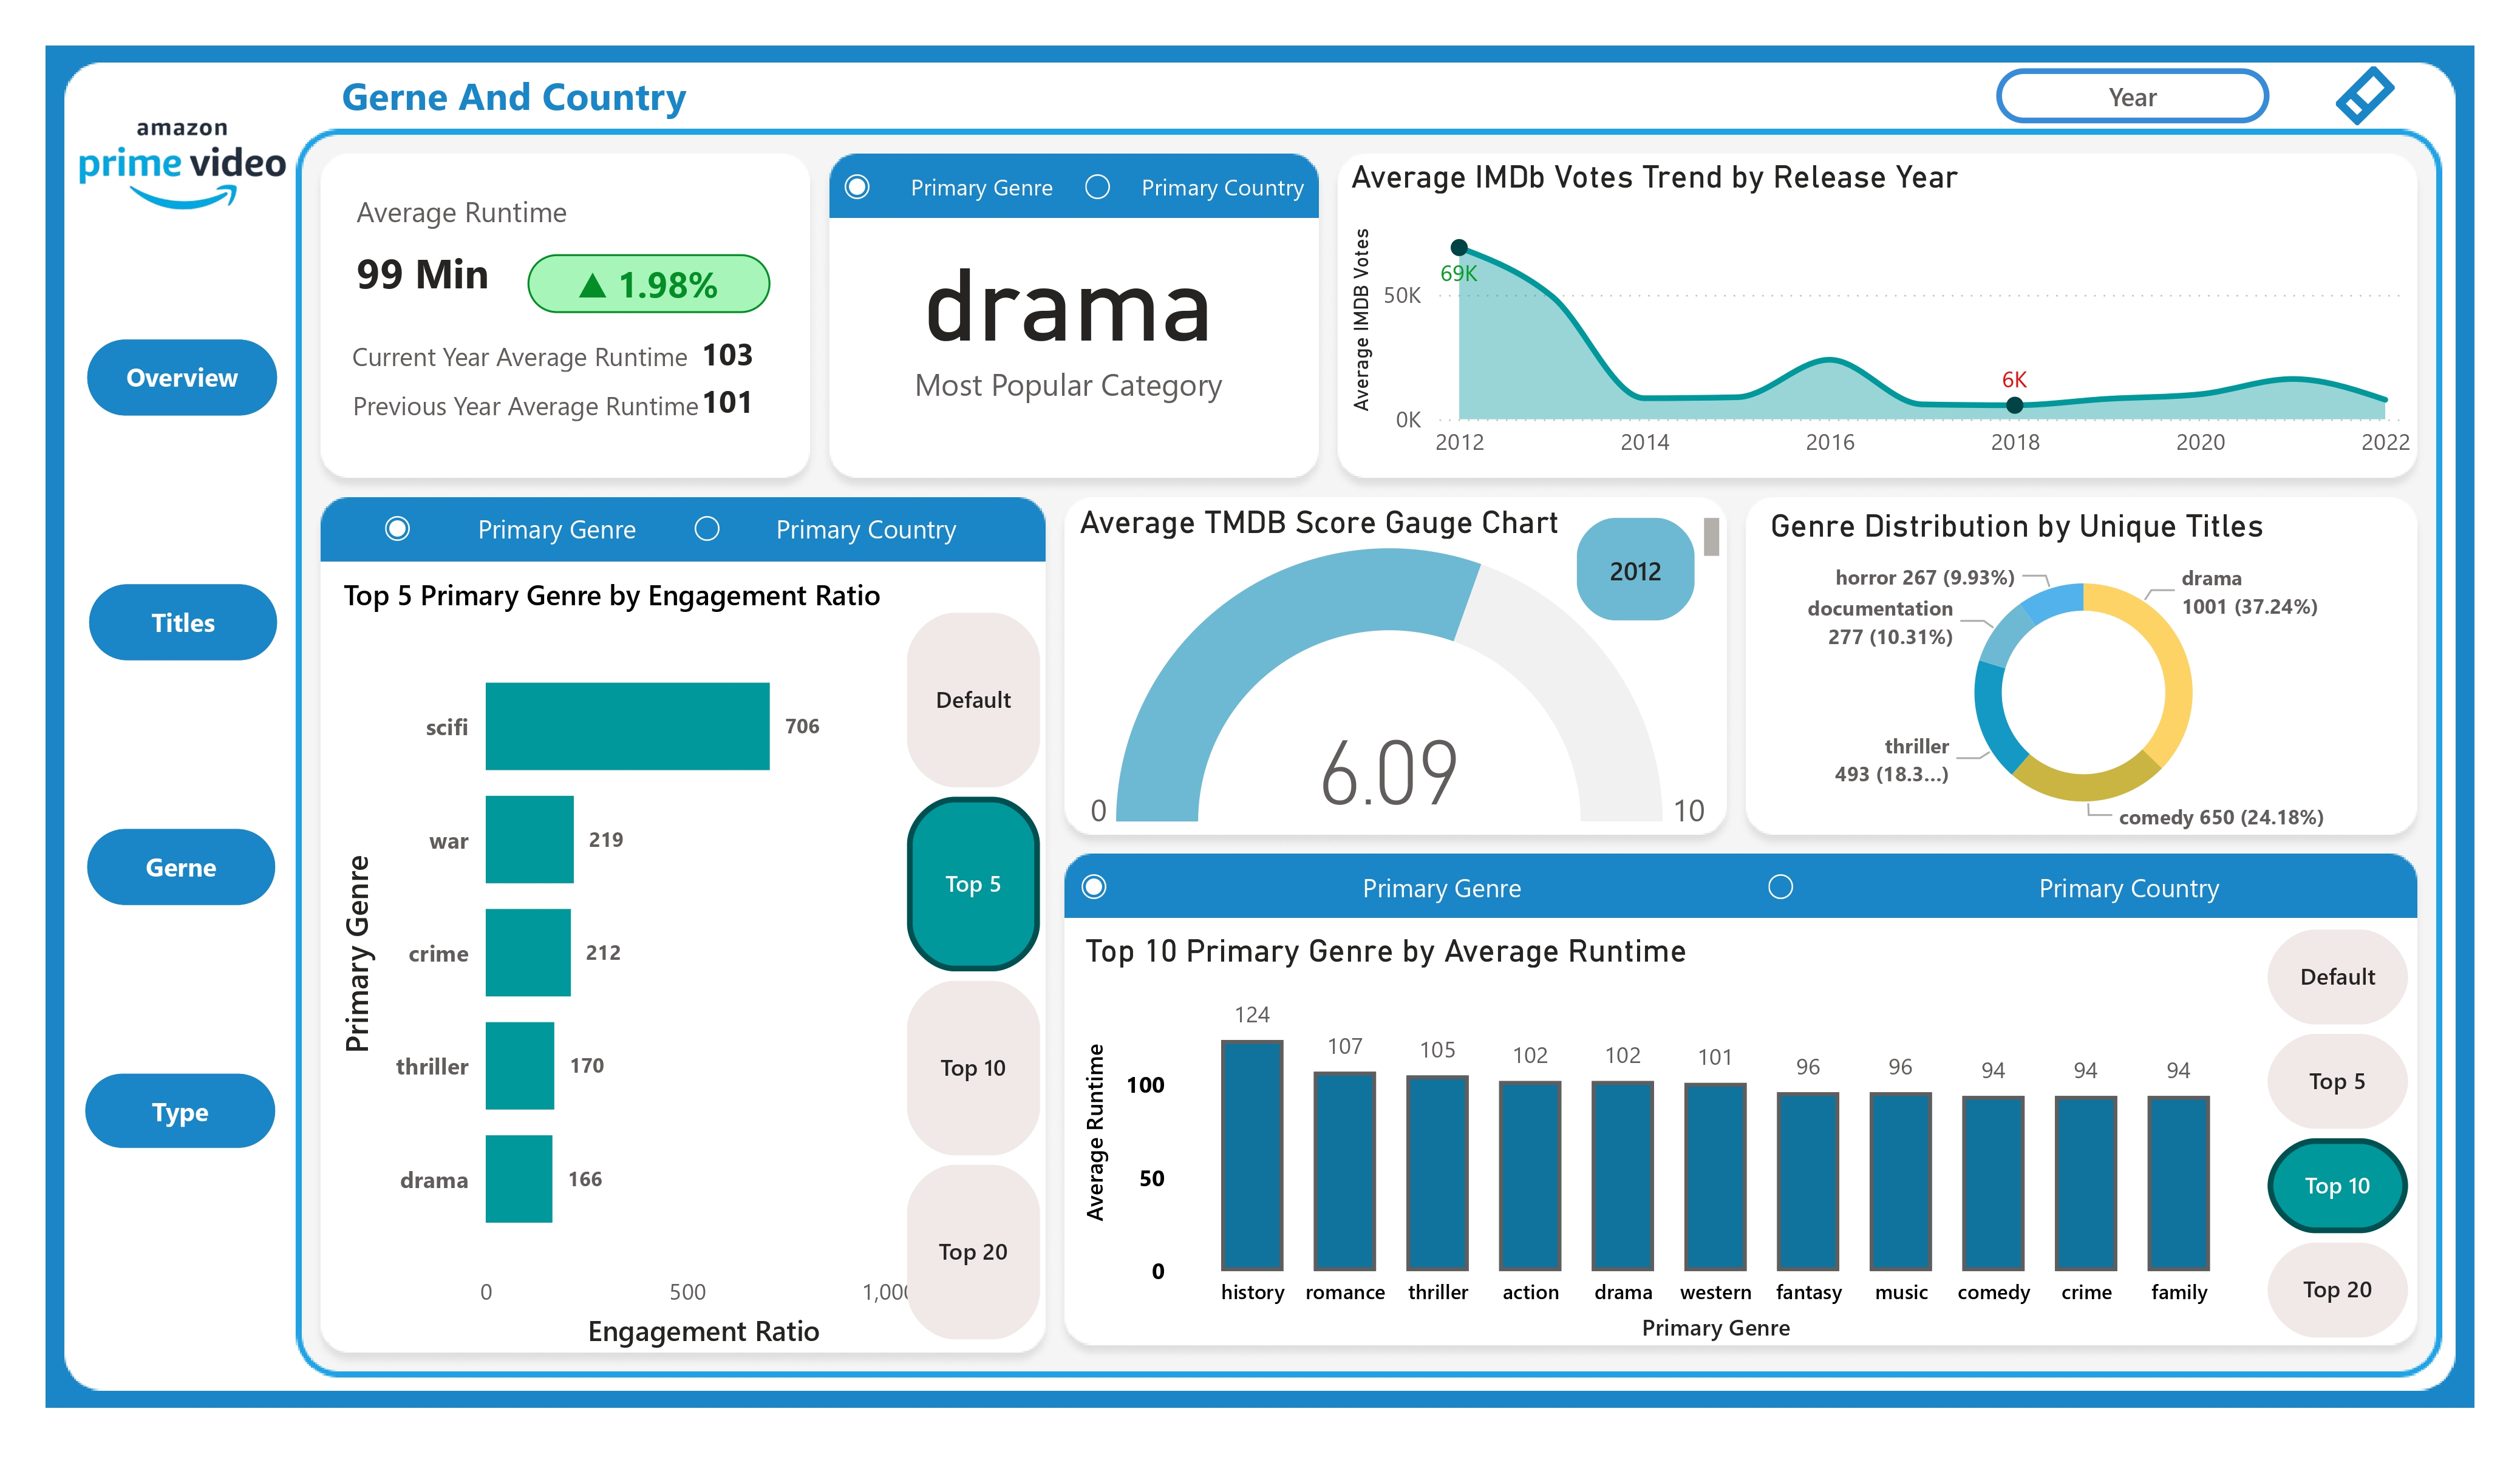

The dashboard page shown, as its layout file describes it:
{"tool":"powerbi","page":{"name":"Gerne And Country","canvas":[1280,720],"ordinal":2},"visuals":[{"type":"shape","box":[146,1,202,49],"z":0,"group":"g9"},{"type":"cardVisual","fields":{"Data":["DAX Formulas.Avg Runtime for Card"]},"box":[146.6,59.8,244.7,170.8],"z":0,"group":"g1"},{"type":"card","fields":{"Values":["DAX Formulas.Most Popular Category"]},"box":[414.9,72.9,248.1,134.5],"z":0,"group":"g6"},{"type":"shape","title":"Color Shape","box":[253.9,109.9,127.3,31.2],"z":0,"group":"g4"},{"type":"gauge","title":"Average TMDB Score Gauge Chart ","fields":{"Y":["DAX Formulas.Average TMDB Score"],"MinValue":["DAX Formulas.Min Imdb Value title page"],"MaxValue":["DAX Formulas.Max Imdb Value title page"]},"box":[540,241,345.3,178],"z":0,"group":"g8"},{"type":"donutChart","title":"Genre Distribution by Unique Titles","fields":{"Y":["DAX Formulas.Unique Title Count"],"Category":["StreamingData.primary_genre"]},"box":[904,243,340,177],"z":0,"group":"g2"},{"type":"barChart","fields":{"Category":["StreamingData.primary_genre"],"Y":["DAX Formulas.Primary Rank on Avg Season"]},"box":[151.3,279.5,325.2,412.8],"z":0,"group":"g3"},{"type":"lineStackedColumnComboChart","fields":{"Category":["StreamingData.primary_genre"],"Y":["DAX Formulas.Primary Rank on Average Runtime"]},"box":[543.1,467.1,623.5,220.3],"z":0,"group":"g5"},{"type":"actionButton","title":"Type","box":[21,542.1,99.6,39.3],"z":0,"group":"g7"},{"type":"actionButton","title":"YEAR ","box":[1028,12,144,29],"z":1000,"group":"g10"},{"type":"advancedSlicerVisual","fields":{"Values":["_Primary Parameter KPI._Primary Parameter KPI"]},"box":[420.1,50,249.1,43.8],"z":1000,"group":"g6"},{"type":"lineChart","title":"Average IMDb Votes Trend by Release Year","fields":{"Category":["Time Table.release_years"],"Y":["DAX Formulas.Average IMDB votes","DAX Formulas.line max point Grene","DAX Formulas.line min point Gerne"]},"box":[682.6,57.3,567.9,169.6],"z":1000,"group":"g2"},{"type":"card","title":" Delta % ","fields":{"Values":["DAX Formulas.PY format Runtime"]},"box":[233.6,108.6,167.1,37],"z":1000,"group":"g4"},{"type":"card","fields":{"Values":["DAX Formulas.current year Avg runtime"]},"box":[335,147.5,53.4,33.4],"z":1000,"group":"g1"},{"type":"advancedSlicerVisual","title":"Release year","fields":{"Values":["Time Table.release_years"]},"box":[802,241,85,68.1],"z":1000,"group":"g8"},{"type":"advancedSlicerVisual","fields":{"Values":["Rank Table For Primary Genre.Ranking"]},"box":[448.4,294.1,80.3,393],"z":1000,"group":"g3"},{"type":"actionButton","title":"Gerne","box":[21.9,413,98.7,40.2],"z":1000,"group":"g7"},{"type":"advancedSlicerVisual","fields":{"Values":["Rank Table for Runtime.Ranking"]},"box":[1166.6,460.5,83.7,228],"z":1000,"group":"g5"},{"type":"actionButton","title":"All clear","box":[1202.6,7,58.7,38.9],"z":2000,"group":"g10"},{"type":"group","id":"g1","title":"Title page Average Runtime","box":[146.6,59.8,254,171],"z":2000,"group":"g2"},{"type":"shape","box":[158.6,148.9,181.7,29.2],"z":2000,"group":"g1"},{"type":"advancedSlicerVisual","fields":{"Values":["_primary Parameter 2nd._primary Parameter 2nd"]},"box":[177.1,230.5,321.9,43.8],"z":2000,"group":"g3"},{"type":"actionButton","title":"Titels home","box":[23.2,284.1,98.8,40],"z":2000,"group":"g7"},{"type":"advancedSlicerVisual","fields":{"Values":["_Primary Parameter for Runtime._Primary Parameter for Runtime"]},"box":[545.3,418.6,719.3,48.5],"z":2000,"group":"g5"},{"type":"group","id":"g2","title":"Charts","box":[146.6,50,1118,642.2],"z":3000,"group":"g10"},{"type":"actionButton","title":"Overview","box":[21.9,155,100,40.2],"z":3000,"group":"g7"},{"type":"shape","box":[160,169.8,185.7,37.6],"z":3000,"group":"g1"},{"type":"group","id":"g3","title":"Home Page bar chart PC | PG","box":[151.3,230.5,377.3,461.8],"z":3000,"group":"g2"},{"type":"group","id":"g4","title":"Color Group","box":[233.6,108.6,167.1,37],"z":4000,"group":"g1"},{"type":"group","id":"g5","title":"Gerne Page Column Chart","box":[543.1,418.6,721.5,269.9],"z":4000,"group":"g2"},{"type":"group","id":"g6","title":"Card 2","box":[414.9,50,254.3,157.4],"z":5000,"group":"g2"},{"type":"group","id":"g7","title":"Navigation","box":[21,155,101,426.3],"z":5000,"group":"g10"},{"type":"card","fields":{"Values":["DAX Formulas.previous year Avg Runtime"]},"box":[335,172.5,53.4,33.4],"z":5000,"group":"g1"},{"type":"group","id":"g8","title":"Gerne Page Gauge  Chart ","box":[540,241,347,178],"z":6000,"group":"g2"},{"type":"group","id":"g9","title":"Page Name Overview","box":[146,1,202,49],"z":7000,"group":"g10"},{"type":"image","title":"Amazon Prime Image","box":[9,7,126.9,109.6],"z":7500,"group":"g10"},{"type":"group","id":"g10","title":"Gerne Page","box":[9,1,1255.6,691.3],"z":7501}]}

Visuals, with their boxes on the page's 1280x720 design canvas (x1, y1, x2, y2). These are canvas units, not pixel positions in the 2520x1457 screenshot, which may show the page scaled, cropped or inside an application window:
shape: box(146, 1, 348, 50)
cardVisual - DAX Formulas.Avg Runtime for Card: box(147, 60, 391, 231)
card - DAX Formulas.Most Popular Category: box(415, 73, 663, 207)
"Color Shape" shape: box(254, 110, 381, 141)
"Average TMDB Score Gauge Chart " gauge: box(540, 241, 885, 419)
"Genre Distribution by Unique Titles" donutChart: box(904, 243, 1244, 420)
barChart - StreamingData.primary_genre x DAX Formulas.Primary Rank on Avg Season: box(151, 280, 476, 692)
lineStackedColumnComboChart - StreamingData.primary_genre x DAX Formulas.Primary Rank on Average Runtime: box(543, 467, 1167, 687)
"Type" actionButton: box(21, 542, 121, 581)
"YEAR " actionButton: box(1028, 12, 1172, 41)
advancedSlicerVisual - _Primary Parameter KPI._Primary Parameter KPI: box(420, 50, 669, 94)
"Average IMDb Votes Trend by Release Year" lineChart: box(683, 57, 1250, 227)
" Delta % " card: box(234, 109, 401, 146)
card - DAX Formulas.current year Avg runtime: box(335, 148, 388, 181)
"Release year" advancedSlicerVisual: box(802, 241, 887, 309)
advancedSlicerVisual - Rank Table For Primary Genre.Ranking: box(448, 294, 529, 687)
"Gerne" actionButton: box(22, 413, 121, 453)
advancedSlicerVisual - Rank Table for Runtime.Ranking: box(1167, 460, 1250, 688)
"All clear" actionButton: box(1203, 7, 1261, 46)
"Title page Average Runtime" group: box(147, 60, 401, 231)
shape: box(159, 149, 340, 178)
advancedSlicerVisual - _primary Parameter 2nd._primary Parameter 2nd: box(177, 230, 499, 274)
"Titels home" actionButton: box(23, 284, 122, 324)
advancedSlicerVisual - _Primary Parameter for Runtime._Primary Parameter for Runtime: box(545, 419, 1265, 467)
"Charts" group: box(147, 50, 1265, 692)
"Overview" actionButton: box(22, 155, 122, 195)
shape: box(160, 170, 346, 207)
"Home Page bar chart PC | PG" group: box(151, 230, 529, 692)
"Color Group" group: box(234, 109, 401, 146)
"Gerne Page Column Chart" group: box(543, 419, 1265, 688)
"Card 2" group: box(415, 50, 669, 207)
"Navigation" group: box(21, 155, 122, 581)
card - DAX Formulas.previous year Avg Runtime: box(335, 172, 388, 206)
"Gerne Page Gauge  Chart " group: box(540, 241, 887, 419)
"Page Name Overview" group: box(146, 1, 348, 50)
"Amazon Prime Image" image: box(9, 7, 136, 117)
"Gerne Page" group: box(9, 1, 1265, 692)
